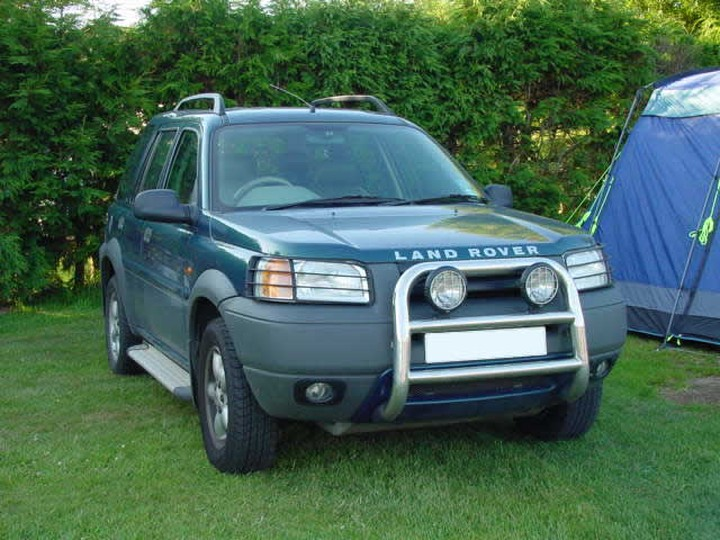car: (95, 88, 634, 478)
